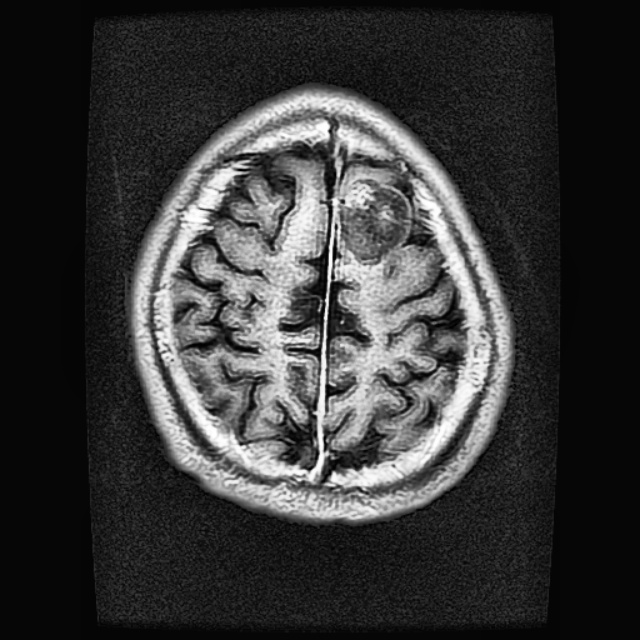Pituitary: (339, 174, 412, 263)
